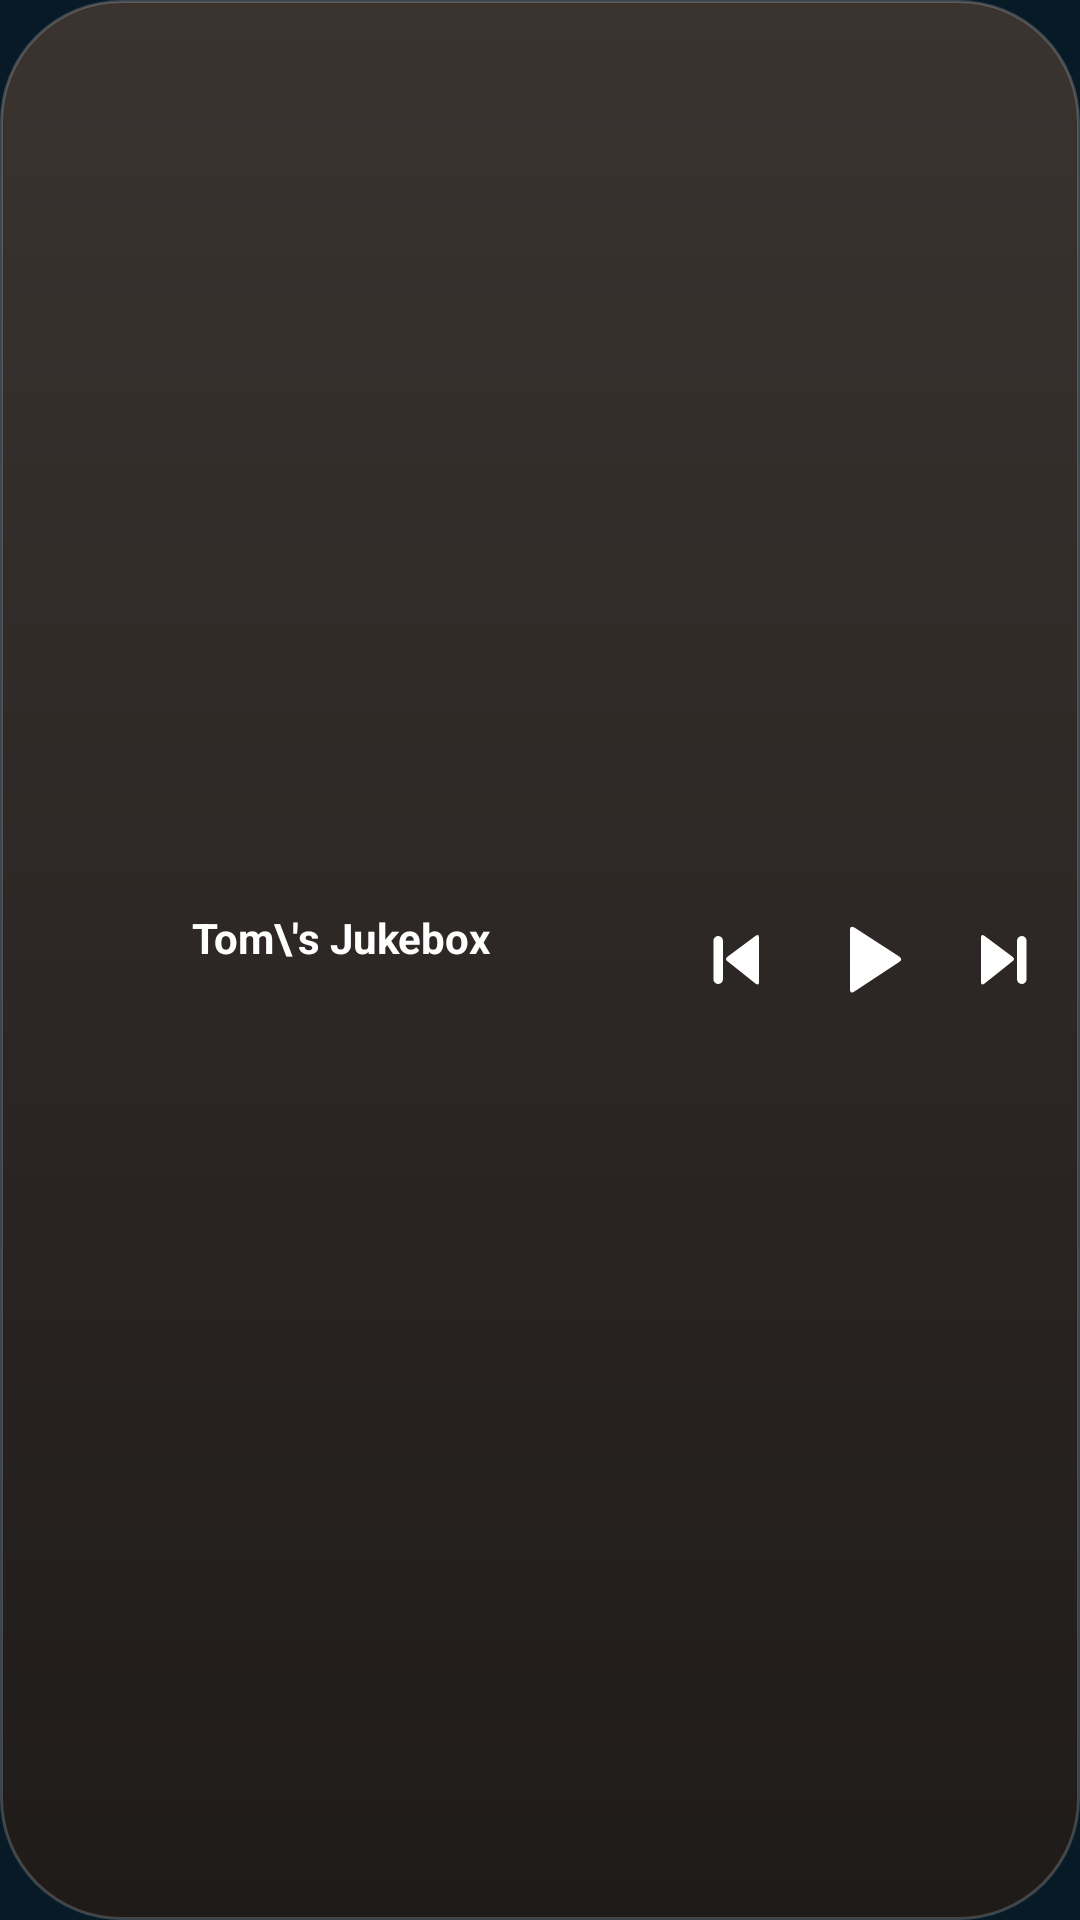

Screen size 1080px×1920px. Icon name, then its center in pixels as (x=x, y=y):
Next: (x=1004, y=960)
Play: (x=875, y=959)
Previous: (x=736, y=960)
